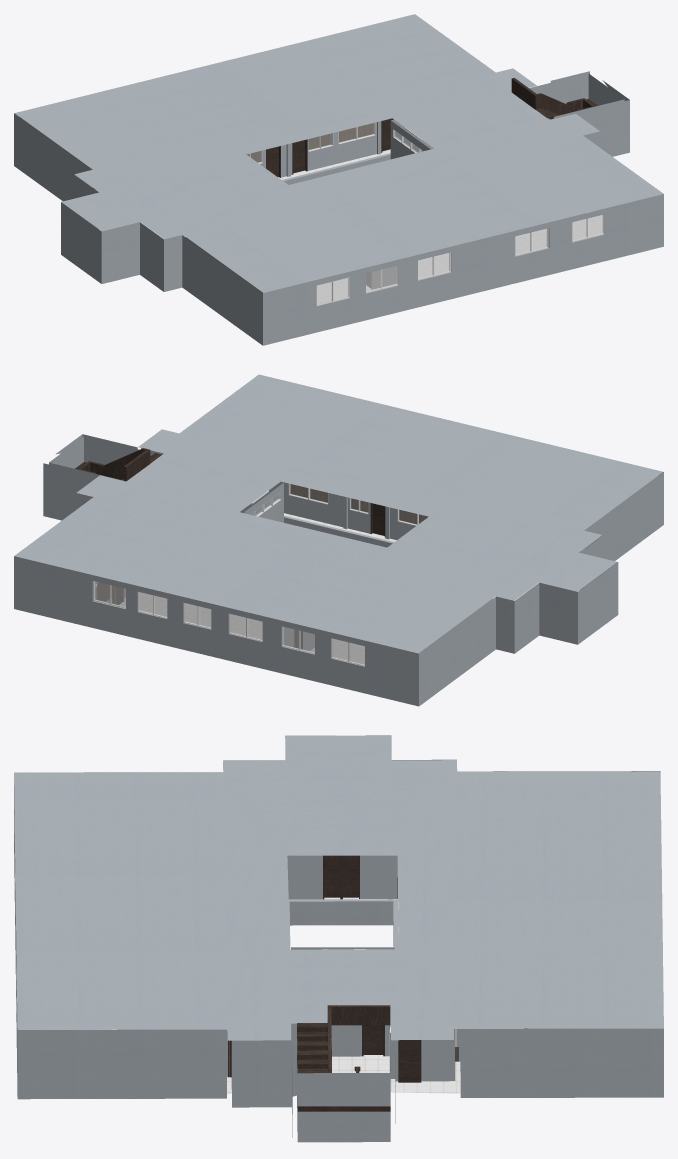
File: USIT-P1_.glb
3 views of the same model, one above another, from view 1: azimuth 30°, elevation 25°; view 2: azimuth 150°, elevation 25°; view 3: azimuth 270°, elevation 25° (orthographic). The views are drawn at different scales.
Visible parts, largest first — view 1: Techo_P1, Vidrio_P1, Puertas_P1, Piso_P1, Lamparas_P1, Paredes_P1; view 2: Techo_P1, Vidrio_P1, Piso_P1, Puertas_P1, Lamparas_P1, Paredes_P1, Marcos_P1; view 3: Techo_P1, Puertas_P1, Piso_P1.
Boxes of the visible parts, box(x1,y1,x2,y2) form: Techo_P1: box(14, 14, 663, 345); Vidrio_P1: box(247, 123, 604, 304); Puertas_P1: box(266, 77, 597, 288); Piso_P1: box(99, 149, 602, 303); Lamparas_P1: box(249, 122, 604, 305); Paredes_P1: box(246, 123, 373, 162); Techo_P1: box(14, 374, 663, 706); Vidrio_P1: box(94, 484, 427, 664); Piso_P1: box(120, 513, 579, 663); Puertas_P1: box(75, 448, 385, 648); Lamparas_P1: box(94, 483, 418, 665); Paredes_P1: box(97, 484, 427, 601); Marcos_P1: box(93, 581, 364, 665); Techo_P1: box(14, 735, 663, 1142); Puertas_P1: box(228, 855, 458, 1111); Piso_P1: box(15, 897, 460, 1097).
Size of what is drawn, in the model's own units: 0.346 by 0.0415 by 0.2795.
10 materials, 7 textured.
